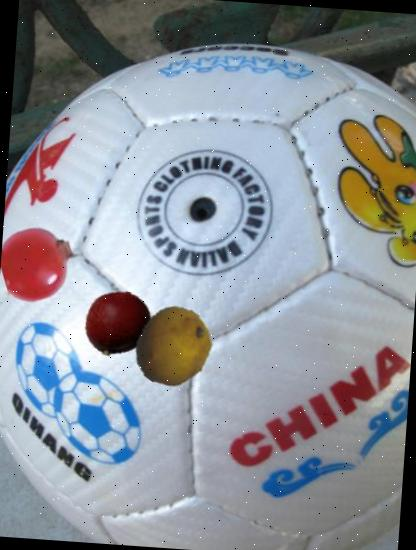Lemon: (130, 303, 216, 389)
Nectarine: (82, 288, 155, 361)
Redcurrant: (0, 222, 79, 303)
